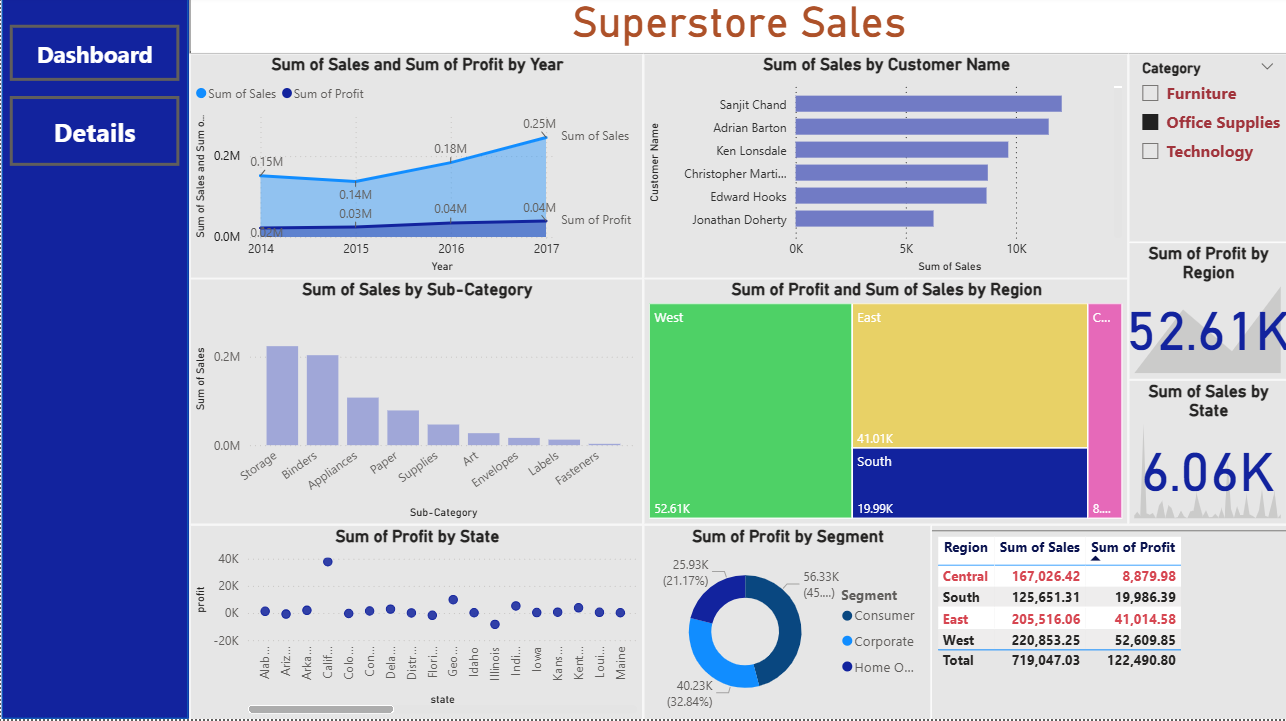

The dashboard page shown, as its layout file describes it:
{"tool":"powerbi","page":{"name":"Page 2","canvas":[1280,720],"ordinal":0},"visuals":[{"type":"shape","box":[0,0,187.8,720.3],"z":0},{"type":"actionButton","box":[8.7,28.6,169.2,56],"z":1000},{"type":"actionButton","box":[8.7,99.5,169.2,69.7],"z":2000},{"type":"textbox","title":"Superstore Sales","box":[187.8,0,1092.2,57.2],"z":3000},{"type":"slicer","fields":{"Values":["Sample - Superstore.Category"]},"box":[1122.1,57.2,158,187.8],"z":4000},{"type":"lineChart","fields":{"Category":["Sample - Superstore.Order Date.Variation.Date Hierarchy.Year","Sample - Superstore.Order Date.Variation.Date Hierarchy.Month","Sample - Superstore.Order Date.Variation.Date Hierarchy.Day"],"Y":["Sample - Superstore.Sales","Sample - Superstore.Profit"]},"box":[187.8,57.2,451.6,223.9],"z":5000},{"type":"columnChart","fields":{"Category":["Sample - Superstore.Sub-Category"],"Y":["Sample - Superstore.Sales"]},"box":[187.8,281.1,451.6,245.1],"z":6000},{"type":"clusteredBarChart","fields":{"Y":["Sample - Superstore.Sales"],"Category":["Sample - Superstore.Customer Name"]},"box":[639.4,57.2,482.7,223.9],"z":7000},{"type":"treemap","fields":{"Values":["Sample - Superstore.Profit"],"Group":["Sample - Superstore.Region"]},"box":[639.4,281.1,482.7,245.1],"z":8000},{"type":"scatterChart","fields":{"Y":["Sample - Superstore.Profit"],"X":["Sample - Superstore.State"]},"box":[187.8,526.2,451.6,194.1],"z":9000},{"type":"kpi","fields":{"Indicator":["Sample - Superstore.Profit"],"TrendLine":["Sample - Superstore.Region"]},"box":[1122.1,245.1,158,136.8],"z":10000},{"type":"kpi","fields":{"Indicator":["Sample - Superstore.Sales"],"TrendLine":["Sample - Superstore.State"]},"box":[1122.1,381.9,158,144.3],"z":11000},{"type":"donutChart","fields":{"Category":["Sample - Superstore.Segment"],"Y":["Sample - Superstore.Profit"]},"box":[639.4,526.2,286.1,194.1],"z":12000},{"type":"tableEx","fields":{"Values":["Sample - Superstore.Region","Sample - Superstore.Sales","Sample - Superstore.Profit"]},"box":[926,526.2,354.5,194.1],"z":13000}]}

Visuals, with their boxes in screenshot pixels (x1, y1, x2, y2), scaled from the page's 1280x720 canvas onto the 1286x721 screenshot:
shape: bbox(0, 0, 189, 720)
actionButton: bbox(9, 29, 179, 85)
actionButton: bbox(9, 100, 179, 169)
"Superstore Sales" textbox: bbox(189, 0, 1285, 57)
slicer - Sample - Superstore.Category: bbox(1127, 57, 1285, 245)
lineChart - Sample - Superstore.Order Date.Variation.Date Hierarchy.Year x Sample - Superstore.Order Date.Variation.Date Hierarchy.Month: bbox(189, 57, 642, 281)
columnChart - Sample - Superstore.Sub-Category x Sample - Superstore.Sales: bbox(189, 281, 642, 527)
clusteredBarChart - Sample - Superstore.Sales x Sample - Superstore.Customer Name: bbox(642, 57, 1127, 281)
treemap - Sample - Superstore.Profit x Sample - Superstore.Region: bbox(642, 281, 1127, 527)
scatterChart - Sample - Superstore.Profit x Sample - Superstore.State: bbox(189, 527, 642, 720)
kpi - Sample - Superstore.Profit x Sample - Superstore.Region: bbox(1127, 245, 1285, 382)
kpi - Sample - Superstore.Sales x Sample - Superstore.State: bbox(1127, 382, 1285, 527)
donutChart - Sample - Superstore.Segment x Sample - Superstore.Profit: bbox(642, 527, 930, 720)
tableEx - Sample - Superstore.Region x Sample - Superstore.Sales: bbox(930, 527, 1285, 720)
